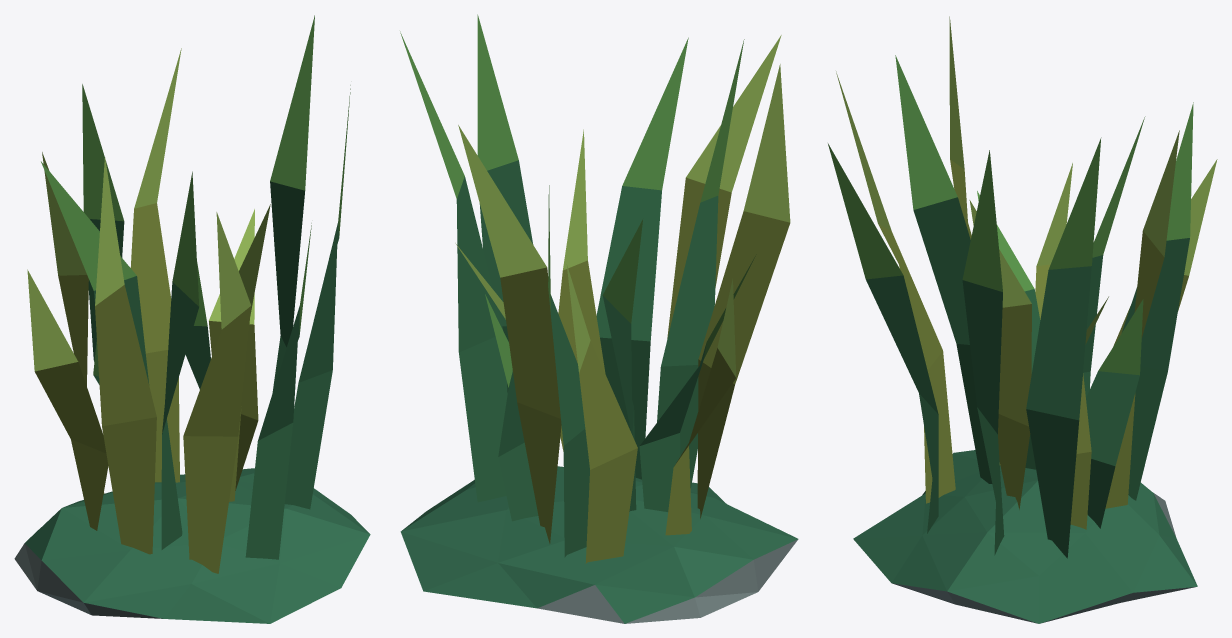
The model's file is kelp_b.glb.
The picture shows the model from 3 angles, left to right: view 1: azimuth 30°, elevation 25°; view 2: azimuth 150°, elevation 25°; view 3: azimuth 270°, elevation 25°; orthographic projection. The views are drawn at different scales.
Parts seen in each view (by area): view 1: Body; view 2: Body; view 3: Body.
Boxes of the visible parts, x1,y1,x2,y2 form: Body: [14, 15, 370, 623]; Body: [400, 14, 798, 623]; Body: [828, 16, 1217, 623].
Size of the model in its own units: 0.5849 by 0.8537 by 0.6232.
